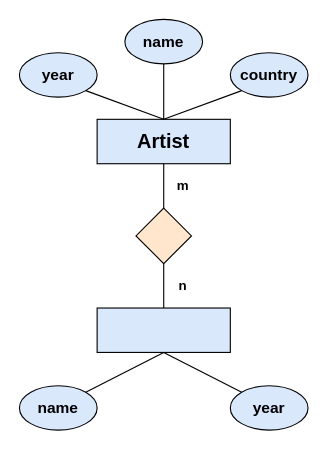
Image size: 327x450. Some labels were removed from this diagram. Each missing label, with the box of its shape:
Album: (96, 307, 230, 352)
has: (135, 207, 191, 264)
